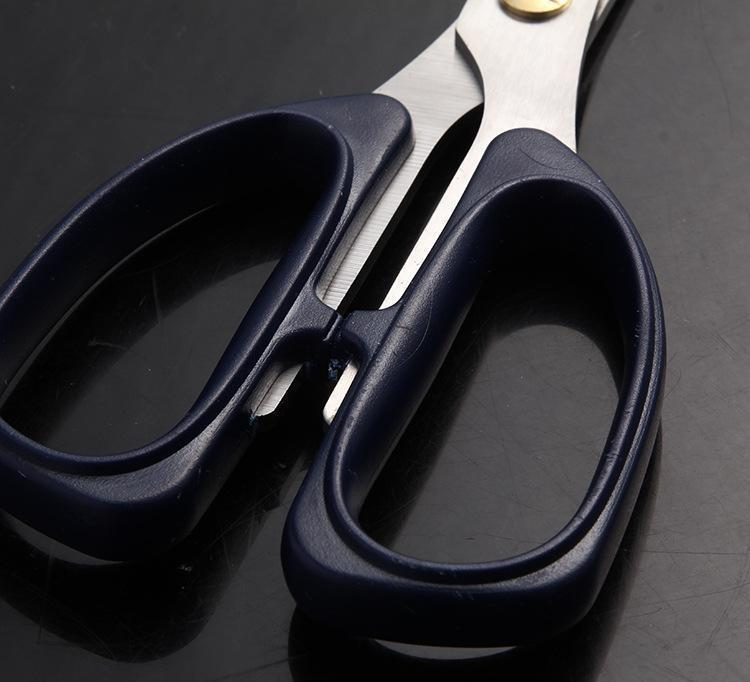scissor: (71, 1, 682, 620)
